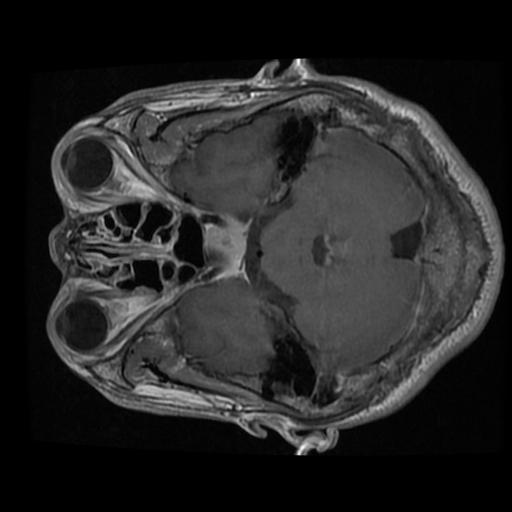pituitary tumour: (203, 226, 242, 273)
